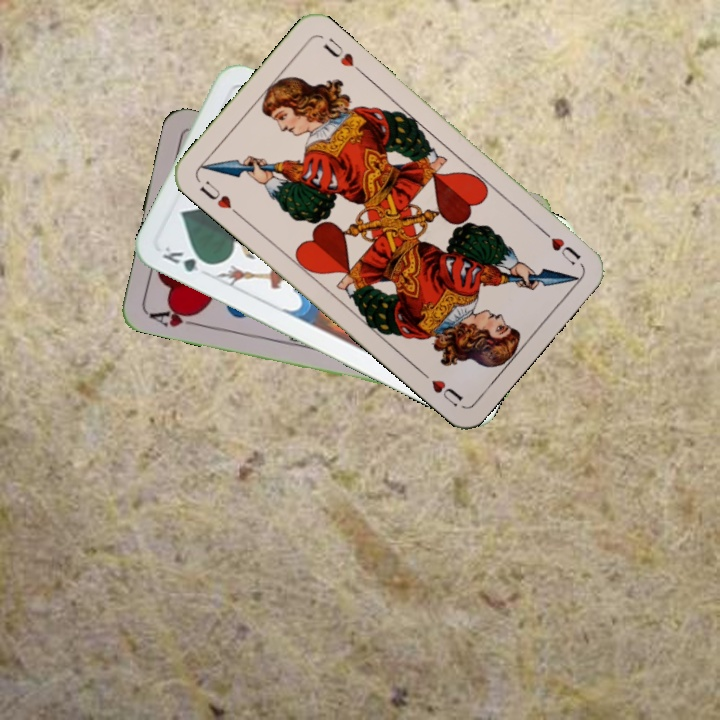GK: (158, 242, 215, 275)
HA: (143, 302, 202, 330)
HU: (535, 223, 583, 268), (196, 176, 243, 219)
